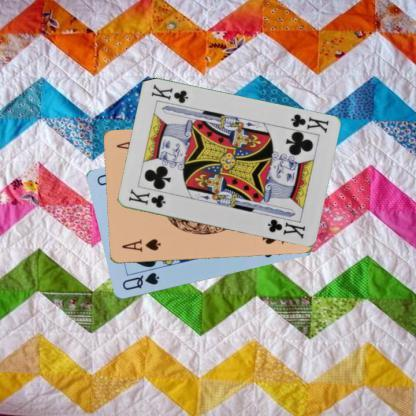As: (119, 237, 162, 253)
Kc: (125, 186, 167, 209), (288, 112, 330, 134)
Qs: (120, 270, 160, 292)
